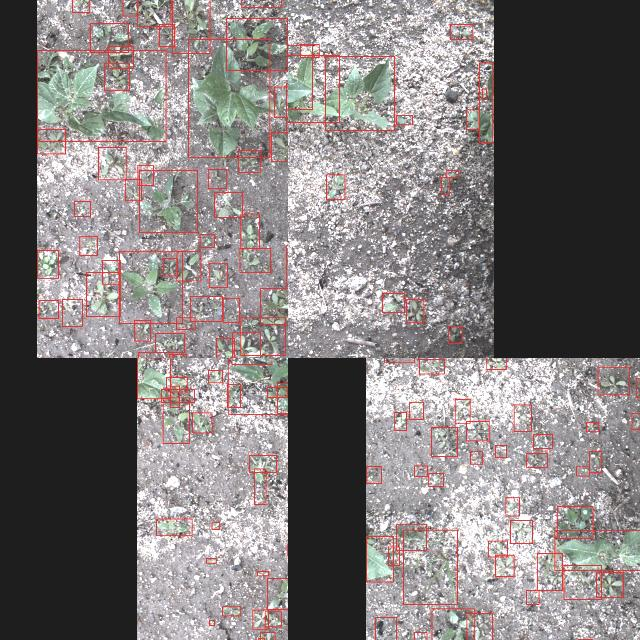crop: (36, 50, 166, 140), (188, 39, 270, 157), (324, 56, 394, 130), (554, 530, 640, 570), (288, 54, 339, 121), (288, 44, 311, 109), (136, 358, 169, 398), (366, 536, 392, 580), (479, 62, 493, 142), (276, 382, 288, 412), (166, 376, 186, 392)
weed: (118, 252, 182, 322), (402, 529, 456, 603), (138, 170, 196, 232), (228, 358, 288, 414), (226, 18, 288, 70), (172, 0, 210, 52), (240, 317, 286, 355), (85, 272, 119, 316), (431, 608, 473, 640), (563, 565, 601, 599), (162, 397, 188, 443), (556, 505, 592, 537), (89, 22, 127, 52), (260, 288, 288, 324), (536, 552, 562, 590), (97, 147, 125, 179), (136, 0, 170, 26), (598, 366, 628, 394), (396, 524, 426, 550), (430, 426, 456, 456), (190, 296, 222, 320), (36, 128, 64, 154), (232, 332, 260, 358), (176, 250, 200, 280), (240, 248, 270, 272), (266, 577, 288, 608), (466, 613, 491, 640), (214, 192, 242, 216), (240, 212, 258, 248), (155, 518, 191, 536), (104, 63, 128, 89), (596, 572, 622, 596), (36, 249, 58, 277), (154, 332, 183, 352), (62, 298, 82, 326), (108, 45, 132, 67), (270, 131, 288, 160), (248, 454, 276, 472), (238, 149, 260, 171), (510, 520, 532, 542), (374, 617, 395, 640), (208, 262, 228, 286), (160, 388, 194, 402), (273, 86, 288, 117), (382, 292, 404, 312), (494, 554, 514, 576), (466, 420, 488, 440), (101, 260, 119, 284), (222, 298, 240, 322), (326, 174, 344, 198), (253, 468, 265, 504), (514, 404, 530, 431), (418, 358, 444, 374), (191, 412, 211, 432), (406, 300, 424, 322), (454, 398, 470, 422), (216, 337, 234, 358), (125, 178, 142, 200), (38, 300, 58, 318), (208, 168, 226, 188), (158, 24, 174, 46), (526, 452, 548, 468), (79, 236, 97, 254), (134, 320, 150, 340), (137, 165, 153, 185), (487, 540, 507, 556), (450, 24, 472, 38), (252, 610, 268, 628), (227, 384, 240, 406), (532, 434, 552, 448), (589, 450, 601, 472), (466, 109, 479, 129), (74, 200, 90, 216), (163, 257, 177, 275), (264, 612, 282, 626), (505, 497, 519, 515), (241, 0, 281, 6), (231, 358, 271, 364), (122, 0, 137, 15), (448, 326, 462, 342), (409, 402, 423, 418), (366, 466, 380, 482), (176, 317, 194, 329), (300, 44, 318, 56), (394, 412, 406, 430), (266, 386, 286, 396), (388, 546, 398, 566), (486, 358, 506, 368), (71, 0, 89, 11), (428, 472, 442, 486), (198, 234, 214, 246), (440, 176, 450, 194), (221, 606, 239, 616), (208, 370, 222, 382), (526, 590, 538, 604), (494, 444, 506, 458), (396, 114, 412, 124), (170, 386, 178, 406), (414, 464, 426, 476), (470, 451, 482, 463), (259, 631, 274, 640), (632, 413, 640, 429), (576, 466, 588, 476), (413, 631, 426, 640), (586, 422, 598, 431), (446, 170, 458, 177), (636, 377, 640, 397), (256, 570, 268, 576), (211, 522, 219, 528), (482, 88, 486, 99), (205, 558, 215, 562), (208, 620, 214, 624), (257, 638, 264, 640)
